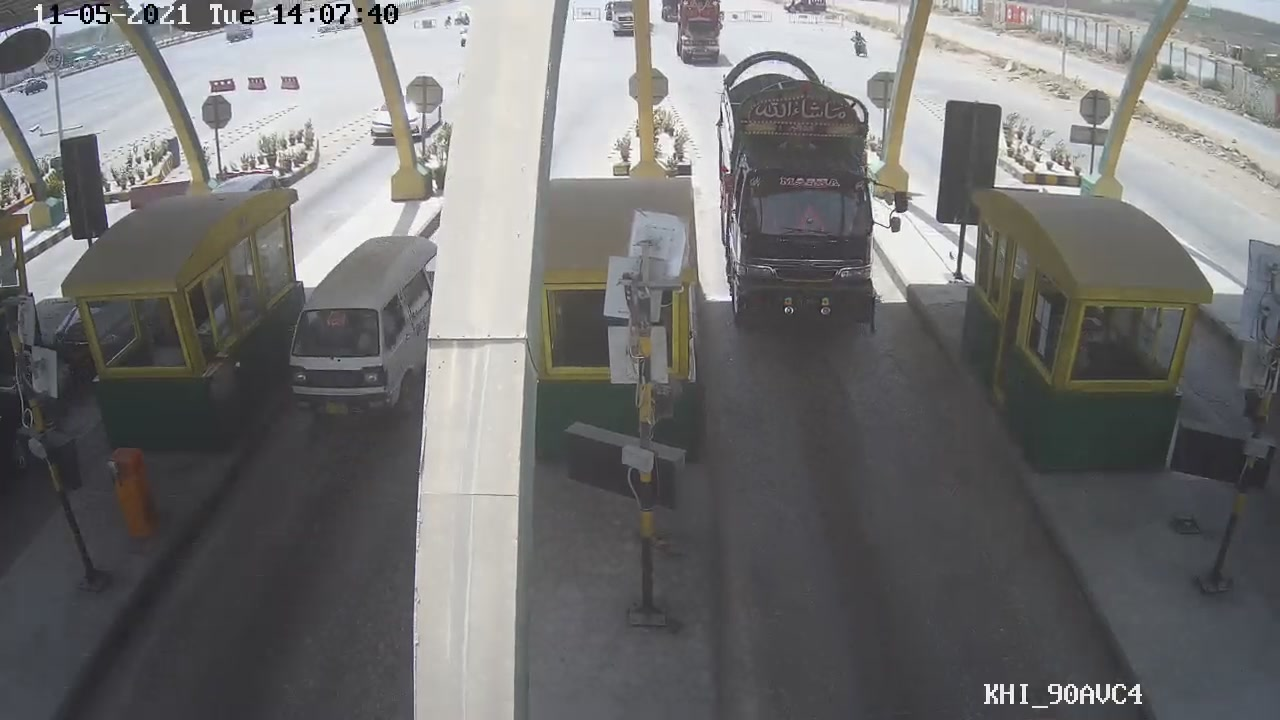F5: (723, 60, 912, 353)
